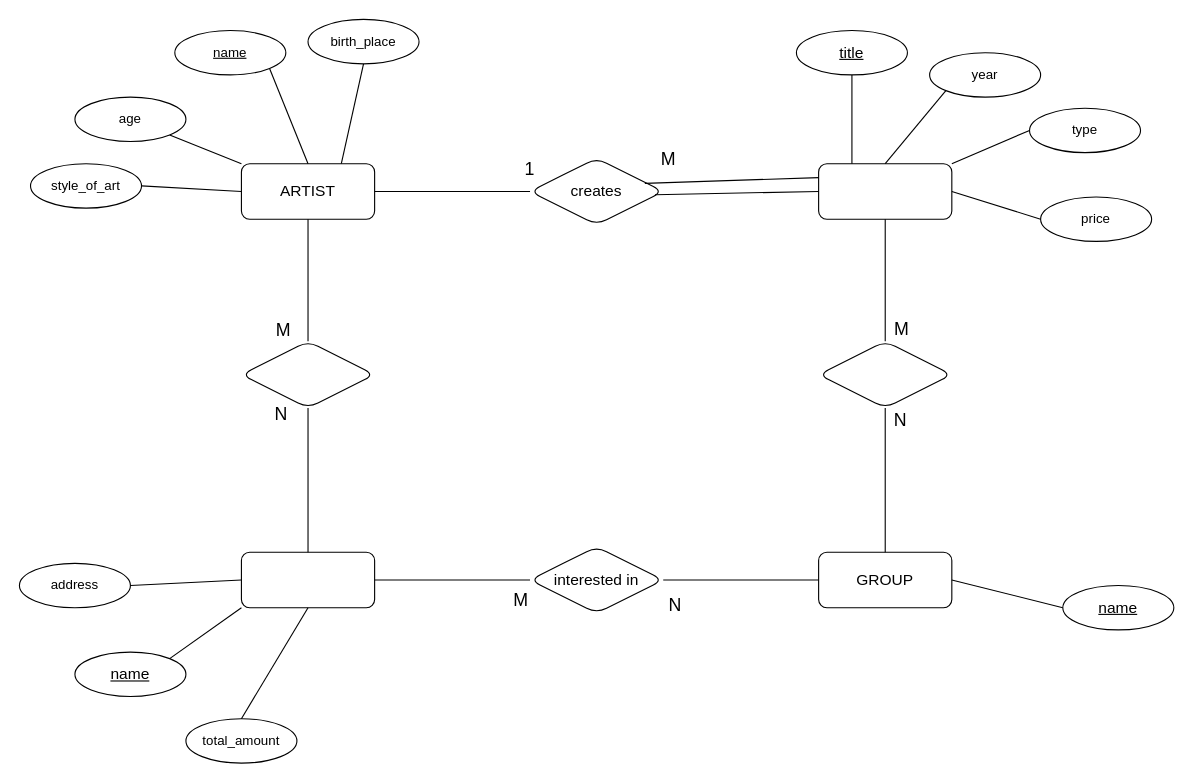
Image size: 1193x783. Some labels were removed from this diagram. The centre of each missing label's shape, as x and y in pixels:
"ARTWORK" belongs at point 885,191.
"belongs to" belongs at point 885,374.
"CUSTOMER" belongs at point 307,579.
"likes" belongs at point 307,374.
